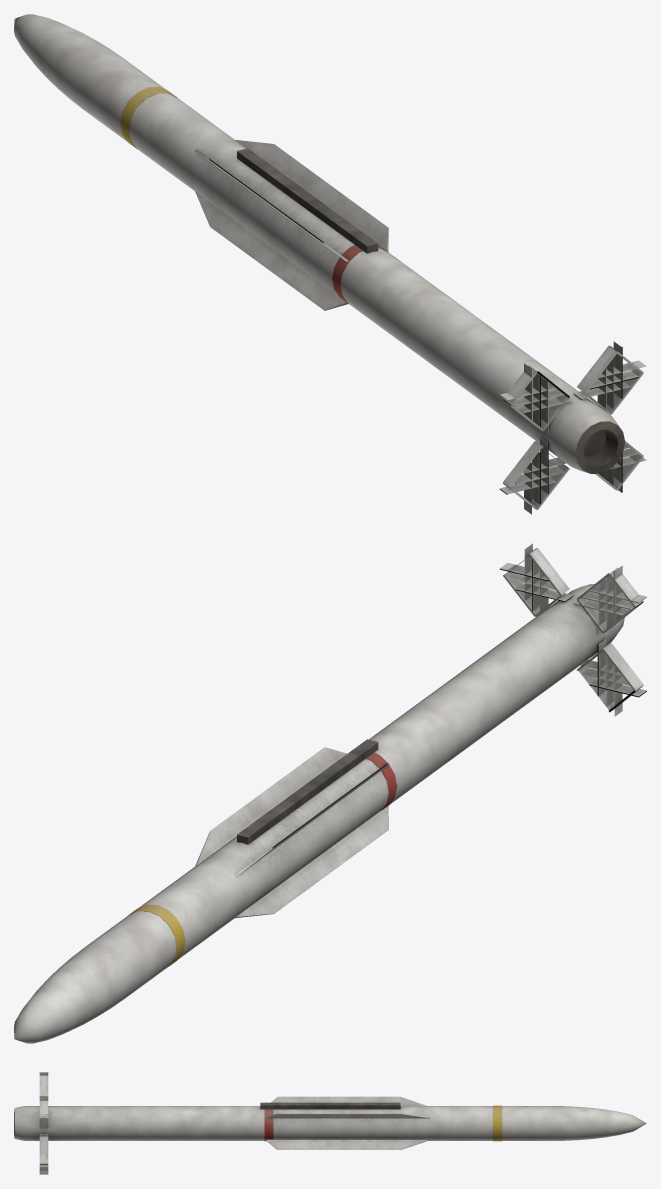
Rendered from aam_long.glb.
3 renders of one model, top to bottom at view 1: azimuth 30°, elevation 25°; view 2: azimuth 150°, elevation 25°; view 3: azimuth 270°, elevation 25°, orthographic. The views are drawn at different scales.
Parts seen in each view (by area): view 1: body; view 2: body; view 3: body.
Boxes of the visible parts, bbox=[...] form: body: bbox=[14, 14, 646, 514]; body: bbox=[14, 543, 646, 1043]; body: bbox=[14, 1072, 646, 1174].
Size of the model in its own units: 0.4935 by 0.4935 by 3.6.
1 material, 1 textured.
